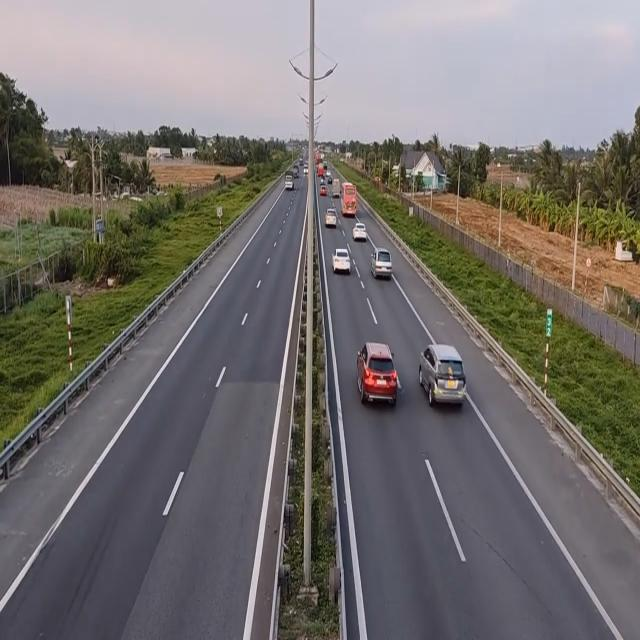bus: (342, 184, 358, 219)
car: (419, 344, 467, 408), (354, 342, 398, 406), (372, 248, 394, 283), (333, 247, 353, 274), (352, 221, 368, 241), (324, 209, 337, 229)
